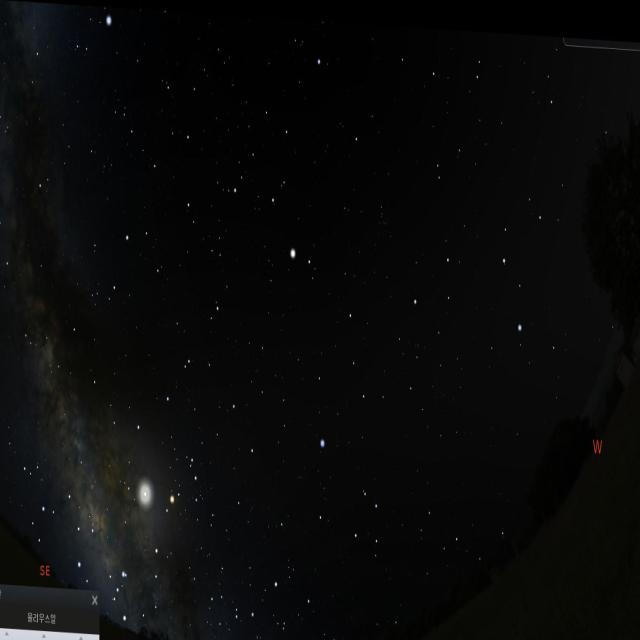bootes: (239, 91, 316, 270)
leo: (403, 177, 542, 352)
lyra: (66, 4, 119, 70)
moon: (120, 448, 163, 522)
scorpius: (107, 427, 208, 629)
